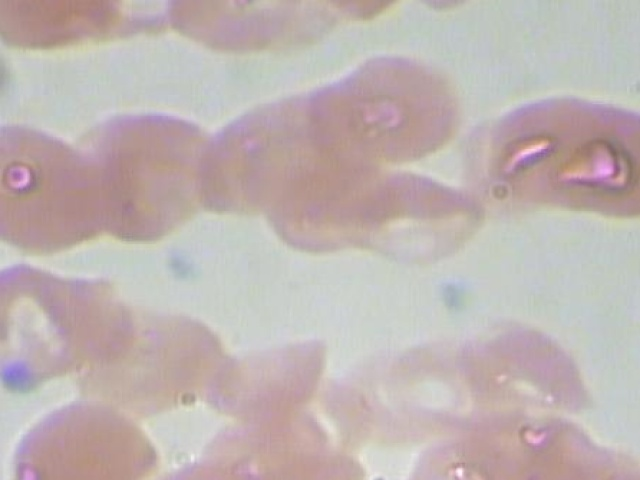Platelets: (0, 360, 36, 397)
RBC: (72, 108, 227, 250), (323, 41, 471, 167), (0, 253, 104, 403), (334, 162, 483, 266), (448, 315, 596, 419), (188, 327, 336, 430), (0, 107, 101, 256), (10, 391, 158, 480), (541, 103, 640, 221), (364, 337, 474, 434), (164, 0, 312, 70), (385, 431, 534, 480), (110, 448, 282, 480)
WBC: (624, 229, 640, 386)
